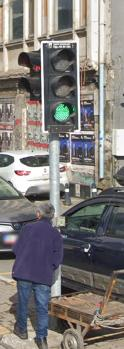greenlight: (42, 41, 80, 134)
